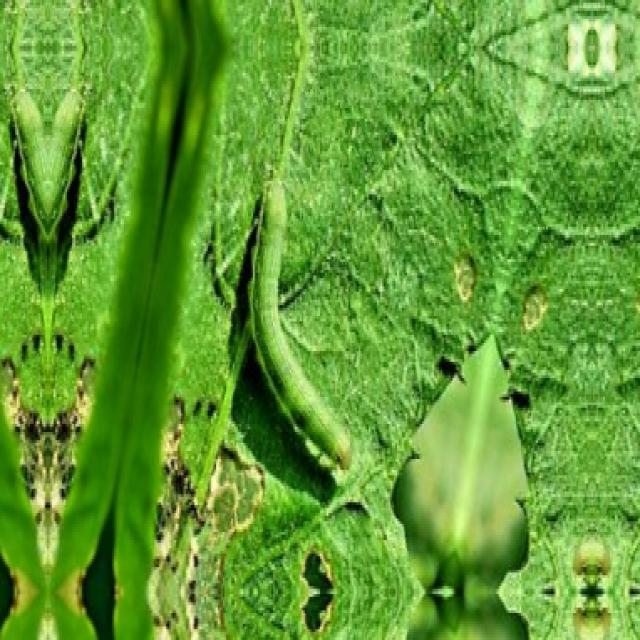Armyworm_damage: (296, 531, 347, 640)
